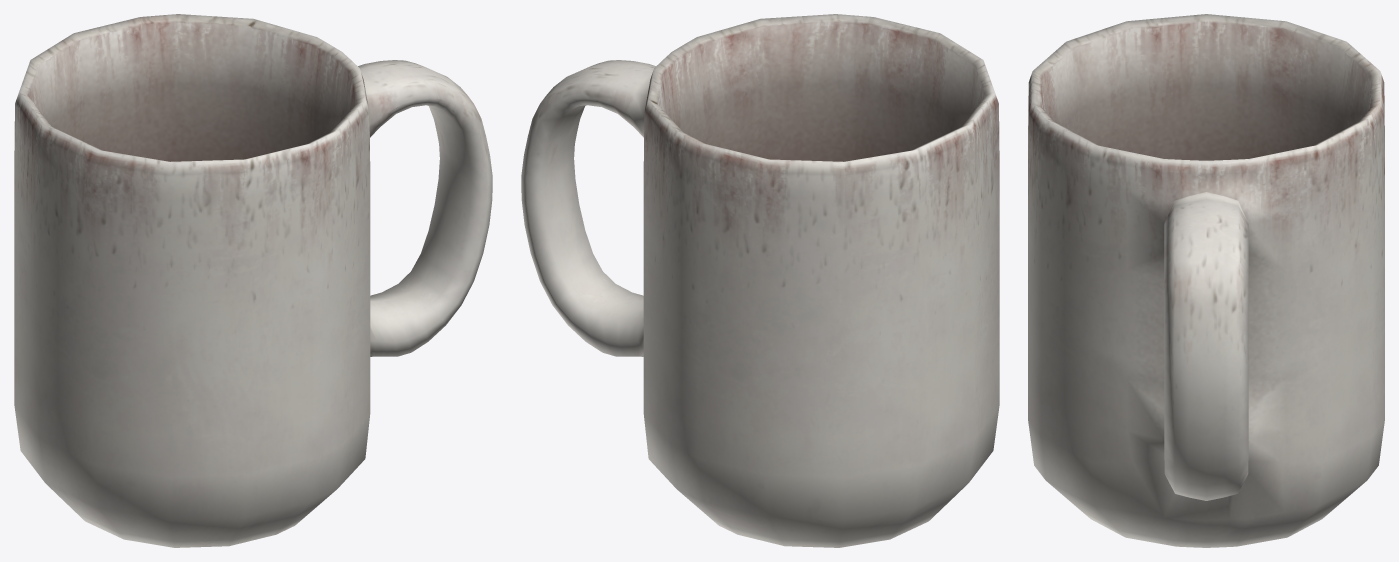
Rendered from mug_use.fbx.
3 renders of one model, left to right at view 1: azimuth 30°, elevation 25°; view 2: azimuth 150°, elevation 25°; view 3: azimuth 270°, elevation 25°, orthographic.
Visible parts, largest first — view 1: Mug; view 2: Mug; view 3: Mug.
Part boxes in pixels (x1,y1,x2,y2): Mug: [14, 14, 492, 547]; Mug: [521, 14, 999, 547]; Mug: [1028, 14, 1384, 547].
Size of the model in its own units: 247 by 218 by 171.
1 material, 1 textured.
